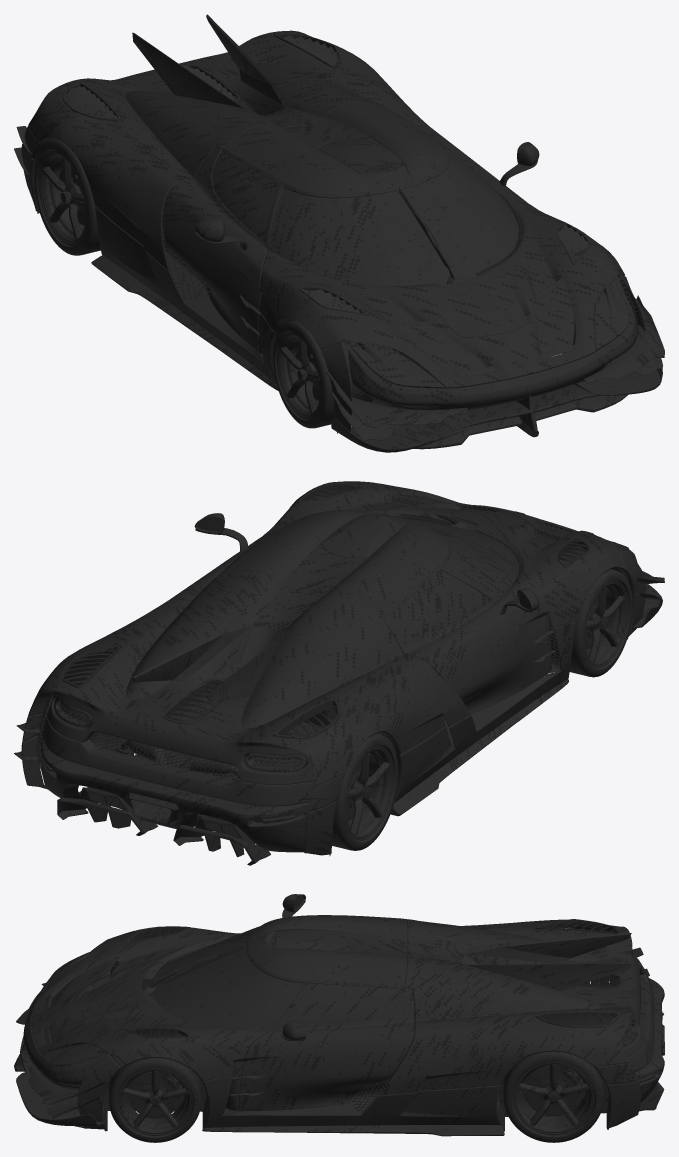
Rendered from koenigsegg-one-pro.glb.
3 renders of one model, top to bottom at view 1: azimuth 30°, elevation 25°; view 2: azimuth 150°, elevation 25°; view 3: azimuth 270°, elevation 25°, orthographic. The views are drawn at different scales.
Visible parts, largest first — view 1: KOP_Body_Geo_KOP_Body_Shd_0, KOP_Cockpit_Geo_KOP_Cockpit_Shd_0, KOP_OutCarbonFiber_Geo_KOP_OutCarbonFiber_Shd_0, KOP_Tyre_Geo_KOP_Tyre_Shd_0, KOP_Rims_Geo_KOP_Rims_Shd_0, KOP_Base_Geo_KOP_Base_Shd_0, KOP_Grills_Geo_KOP_Grills_Shd_0; view 2: KOP_Body_Geo_KOP_Body_Shd_0, KOP_OutCarbonFiber_Geo_KOP_OutCarbonFiber_Shd_0, KOP_Cockpit_Geo_KOP_Cockpit_Shd_0, KOP_Tyre_Geo_KOP_Tyre_Shd_0, KOP_Rims_Geo_KOP_Rims_Shd_0, KOP_Base_Geo_KOP_Base_Shd_0, KOP_Steel_Geo_KOP_Steel_Shd_0, KOP_Grills_Geo_KOP_Grills_Shd_0; view 3: KOP_Body_Geo_KOP_Body_Shd_0, KOP_OutCarbonFiber_Geo_KOP_OutCarbonFiber_Shd_0, KOP_Cockpit_Geo_KOP_Cockpit_Shd_0, KOP_Tyre_Geo_KOP_Tyre_Shd_0, KOP_Rims_Geo_KOP_Rims_Shd_0, KOP_Base_Geo_KOP_Base_Shd_0, KOP_DiskBrake_Geo_KOP_DiskBrake_Shd_0.001, KOP_DiskBrake_Geo_KOP_DiskBrake_Shd_0, KOP_Steel_Geo_KOP_Steel_Shd_0, KOP_Grills_Geo_KOP_Grills_Shd_0.
Part boxes in pixels (x1=…): KOP_Body_Geo_KOP_Body_Shd_0: x1=21, y1=30, x2=645, y2=431; KOP_Cockpit_Geo_KOP_Cockpit_Shd_0: x1=212, y1=108, x2=628, y2=387; KOP_OutCarbonFiber_Geo_KOP_OutCarbonFiber_Shd_0: x1=14, y1=14, x2=664, y2=452; KOP_Tyre_Geo_KOP_Tyre_Shd_0: x1=34, y1=138, x2=624, y2=428; KOP_Rims_Geo_KOP_Rims_Shd_0: x1=40, y1=152, x2=320, y2=416; KOP_Base_Geo_KOP_Base_Shd_0: x1=32, y1=138, x2=639, y2=433; KOP_Grills_Geo_KOP_Grills_Shd_0: x1=53, y1=138, x2=638, y2=402; KOP_Body_Geo_KOP_Body_Shd_0: x1=21, y1=481, x2=645, y2=854; KOP_OutCarbonFiber_Geo_KOP_OutCarbonFiber_Shd_0: x1=14, y1=483, x2=664, y2=865; KOP_Cockpit_Geo_KOP_Cockpit_Shd_0: x1=41, y1=516, x2=628, y2=823; KOP_Tyre_Geo_KOP_Tyre_Shd_0: x1=37, y1=569, x2=632, y2=850; KOP_Rims_Geo_KOP_Rims_Shd_0: x1=93, y1=582, x2=626, y2=838; KOP_Base_Geo_KOP_Base_Shd_0: x1=37, y1=512, x2=632, y2=856; KOP_Steel_Geo_KOP_Steel_Shd_0: x1=42, y1=517, x2=559, y2=826; KOP_Grills_Geo_KOP_Grills_Shd_0: x1=40, y1=496, x2=573, y2=779; KOP_Body_Geo_KOP_Body_Shd_0: x1=23, y1=894, x2=664, y2=1129; KOP_OutCarbonFiber_Geo_KOP_OutCarbonFiber_Shd_0: x1=14, y1=919, x2=664, y2=1136; KOP_Cockpit_Geo_KOP_Cockpit_Shd_0: x1=41, y1=926, x2=655, y2=1111; KOP_Tyre_Geo_KOP_Tyre_Shd_0: x1=109, y1=962, x2=604, y2=1142; KOP_Rims_Geo_KOP_Rims_Shd_0: x1=119, y1=1062, x2=592, y2=1133; KOP_Base_Geo_KOP_Base_Shd_0: x1=103, y1=944, x2=618, y2=1133; KOP_DiskBrake_Geo_KOP_DiskBrake_Shd_0.001: x1=525, y1=984, x2=585, y2=1116; KOP_DiskBrake_Geo_KOP_DiskBrake_Shd_0: x1=129, y1=1071, x2=184, y2=1118; KOP_Steel_Geo_KOP_Steel_Shd_0: x1=44, y1=895, x2=664, y2=1096; KOP_Grills_Geo_KOP_Grills_Shd_0: x1=48, y1=940, x2=610, y2=1113.
Size of the model in its own units: 2.27 by 1.11 by 4.5.
1 material, 1 textured.
